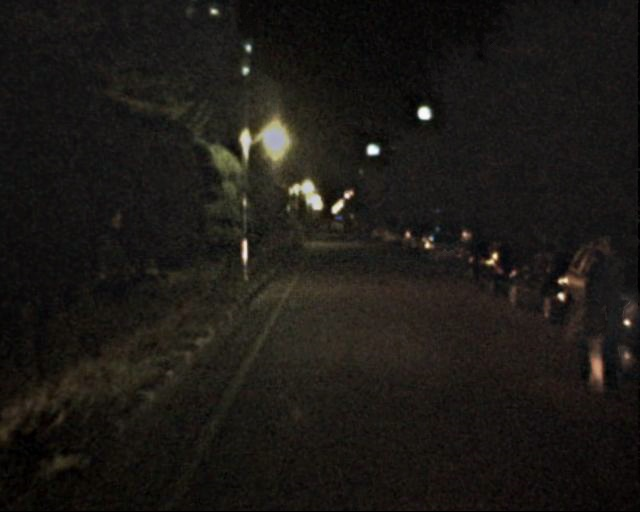person: (570, 249, 631, 402), (588, 232, 636, 382)
